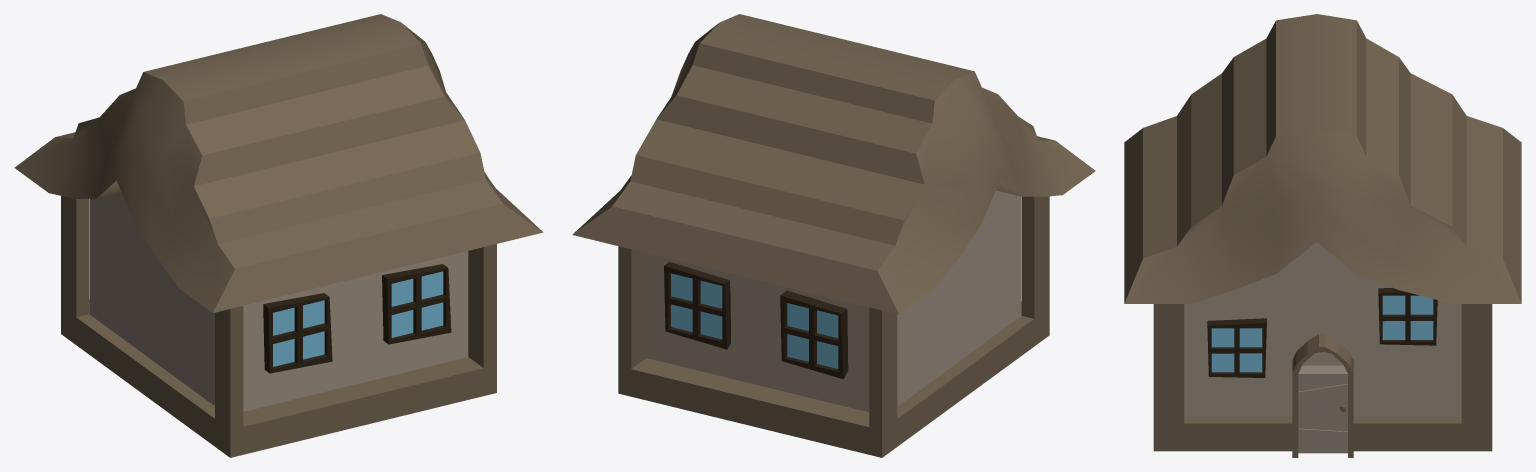
Rendered from small house.fbx.
3 views of the same model, side by side, from view 1: azimuth 30°, elevation 25°; view 2: azimuth 150°, elevation 25°; view 3: azimuth 270°, elevation 25° (orthographic).
Visible parts, largest first — view 1: pCube73; view 2: pCube73; view 3: pCube73.
Part boxes in pixels (left/top/right/bottom): pCube73: left=14, top=14, right=543, bottom=457; pCube73: left=572, top=14, right=1095, bottom=457; pCube73: left=1124, top=14, right=1521, bottom=457.
Bounding box in the file's own units: 12.41 × 11.27 × 12.9.
5 materials, 2 textured.
